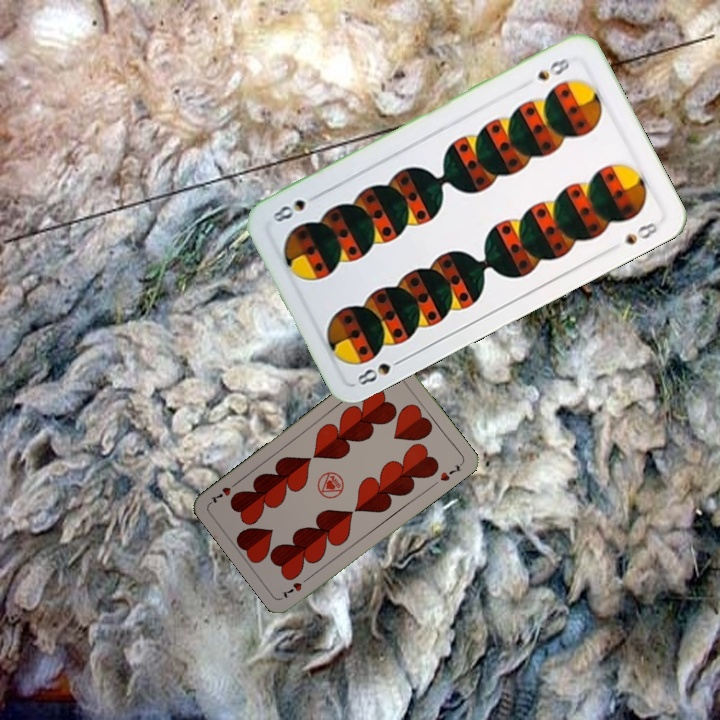H7: (277, 572, 313, 601)
S8: (353, 354, 408, 388), (533, 54, 573, 83)
